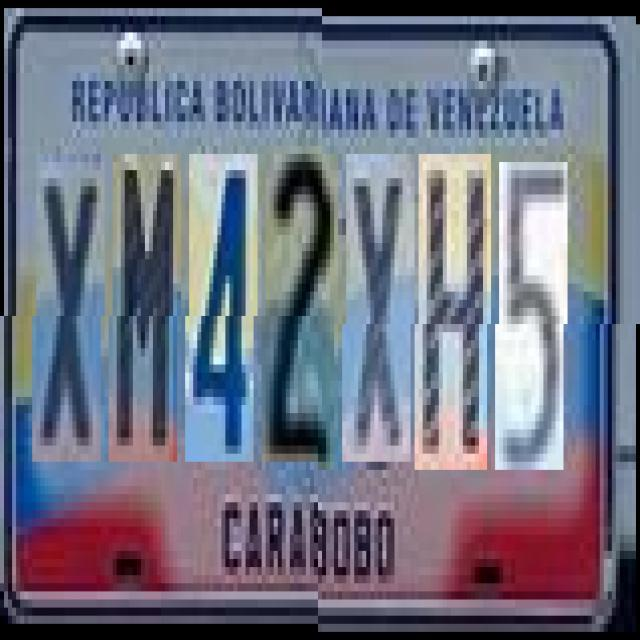2: (266, 146, 338, 462)
4: (189, 154, 258, 462)
5: (500, 154, 568, 462)
H: (418, 146, 492, 462)
M: (112, 154, 182, 462)
X: (36, 154, 105, 462), (346, 146, 414, 454)
